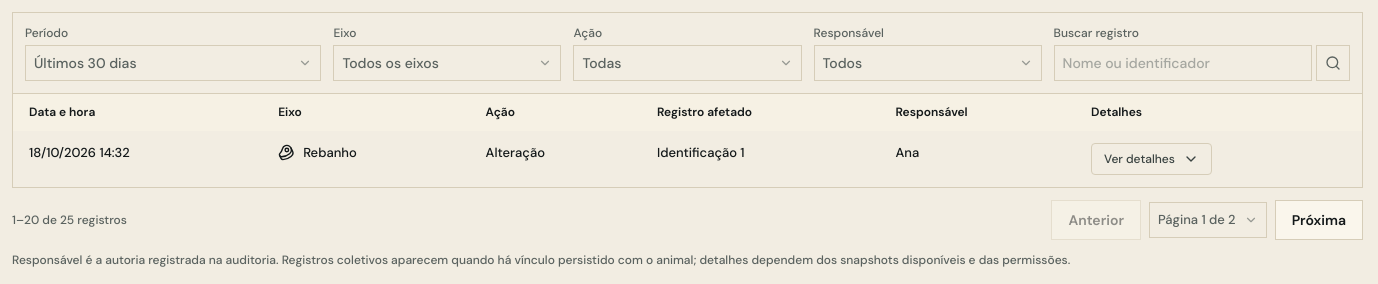
Test: AuditoriaAnimal › troca de página sem acumular registros e mantém filtros
Check: the text "Identificação 1" is shown, box [641,131,879,187]
Click the button "Próxima" at (1319, 220), box [1275,200,1363,240]
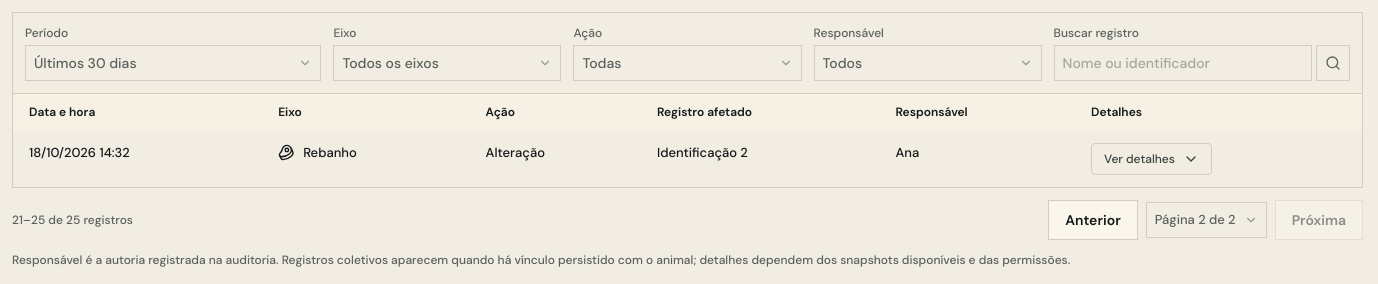
Check: the text "Identificação 2" is shown, box [641,131,879,187]
Check: the text "Identificação 1" is gone
Check: the text "21–25 de 25 registros" is shown, box [12,212,133,228]
